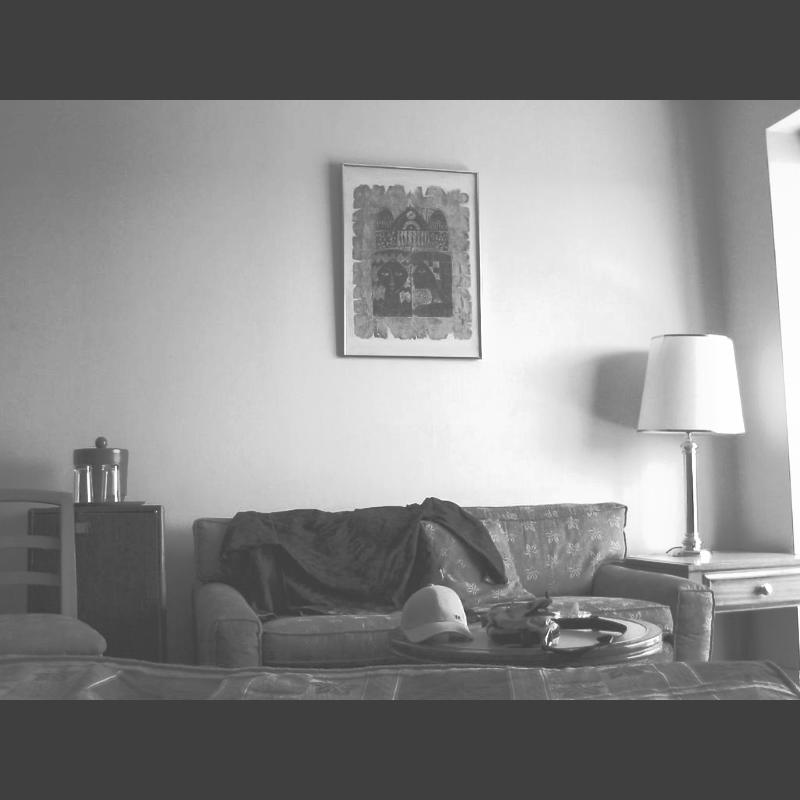pillow: (418, 521, 536, 613)
